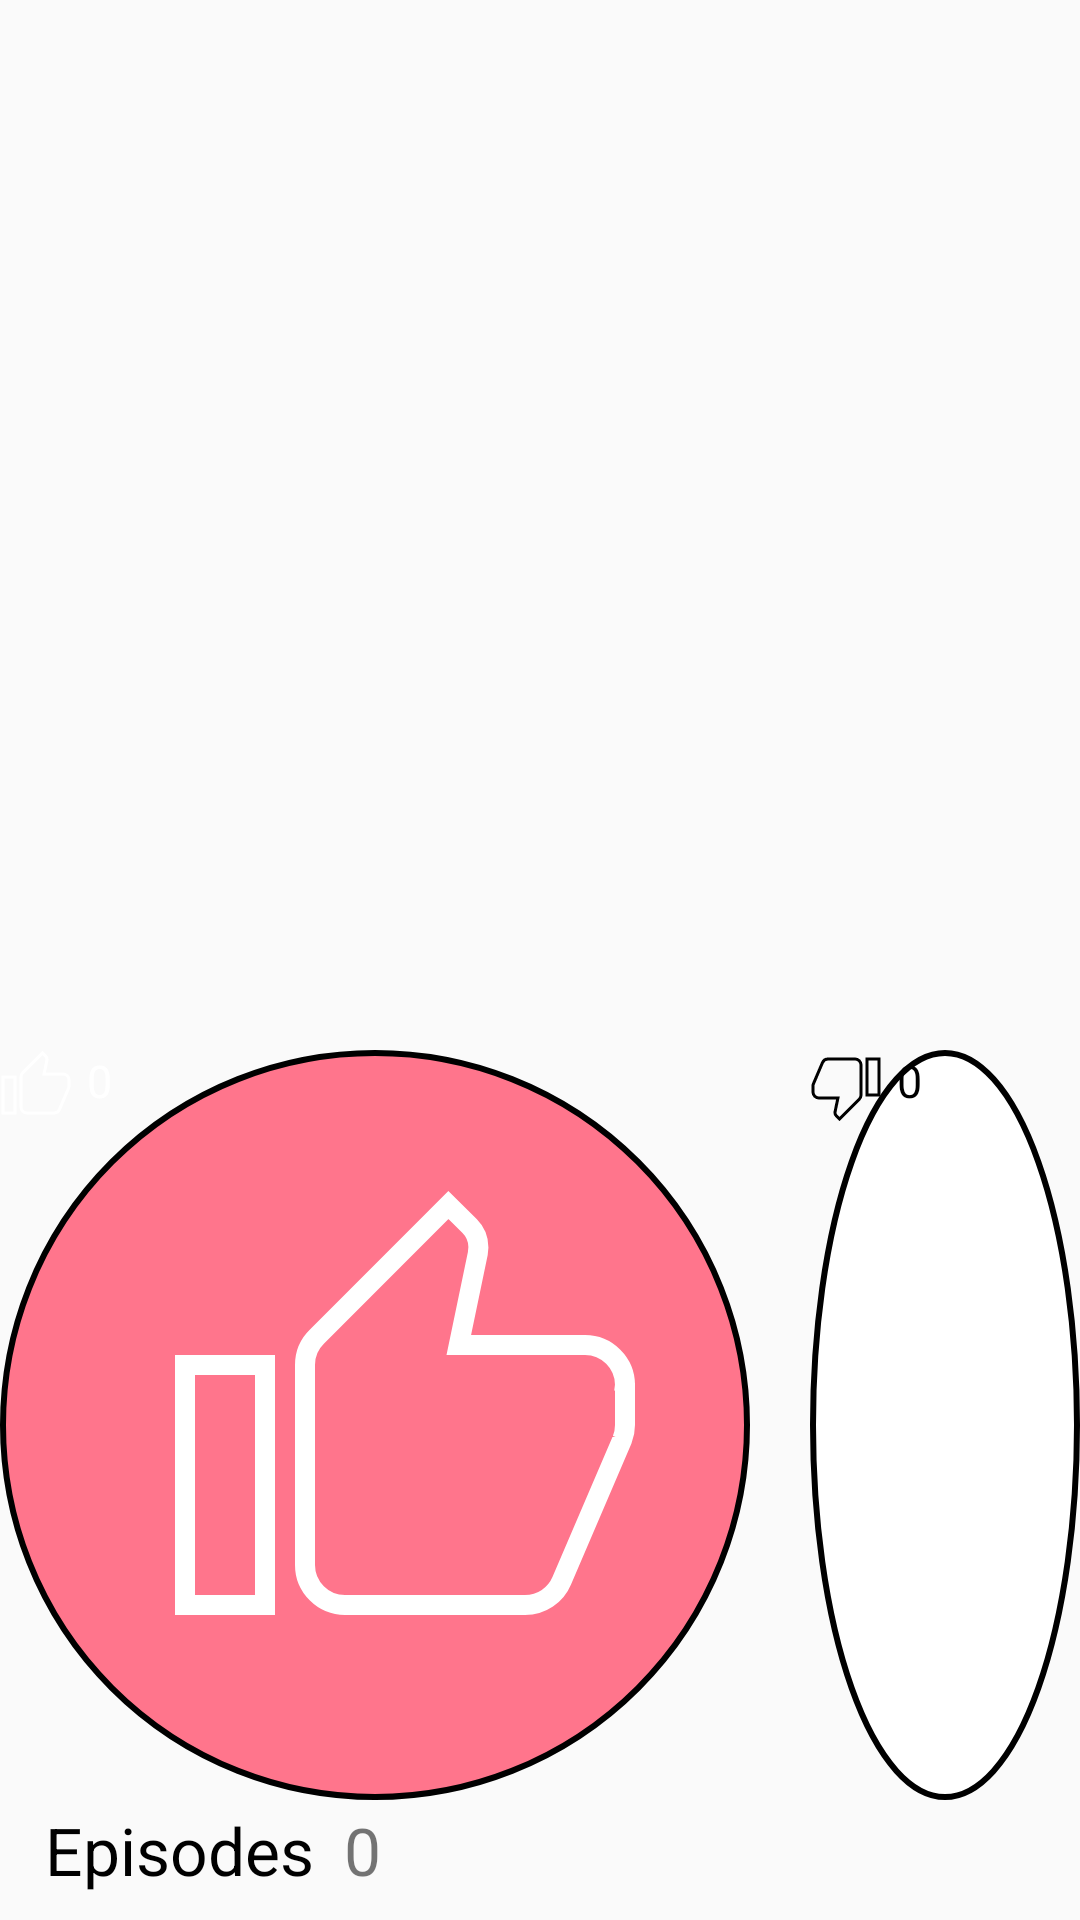

Icons on this 1080x1920 Android screen, each with its box as (x1, y1, x2, y2):
dislike: (811, 1057, 863, 1121)
